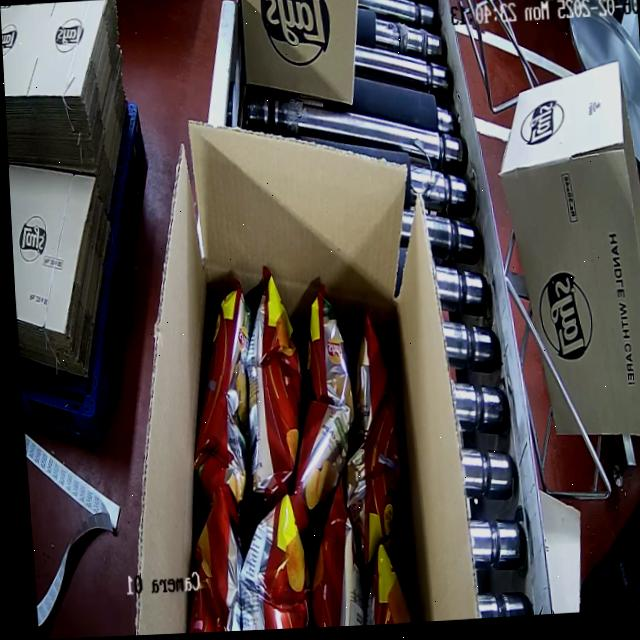MASALA: (169, 279, 414, 633)
